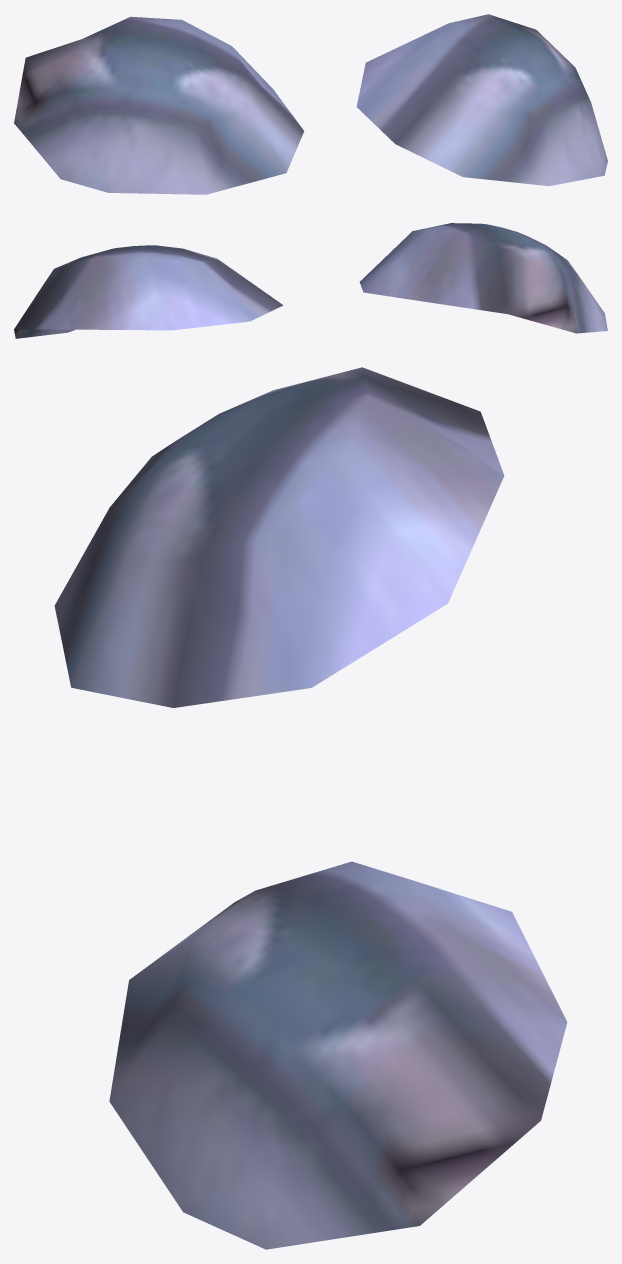
Rendered from Eye.FBX.
The picture shows the model from 3 angles, top to bottom: view 1: azimuth 30°, elevation 25°; view 2: azimuth 150°, elevation 25°; view 3: azimuth 270°, elevation 25°; orthographic projection. The views are drawn at different scales.
Parts seen in each view (by area): view 1: Mesh_0030; view 2: Mesh_0030; view 3: Mesh_0030.
Part boxes in pixels (box(x1,y1,x2,y2)): Mesh_0030: box(14, 14, 607, 194); Mesh_0030: box(14, 223, 607, 338); Mesh_0030: box(54, 367, 567, 1249).
Size of the model in its own units: 14.15 by 5.44 by 5.74.
